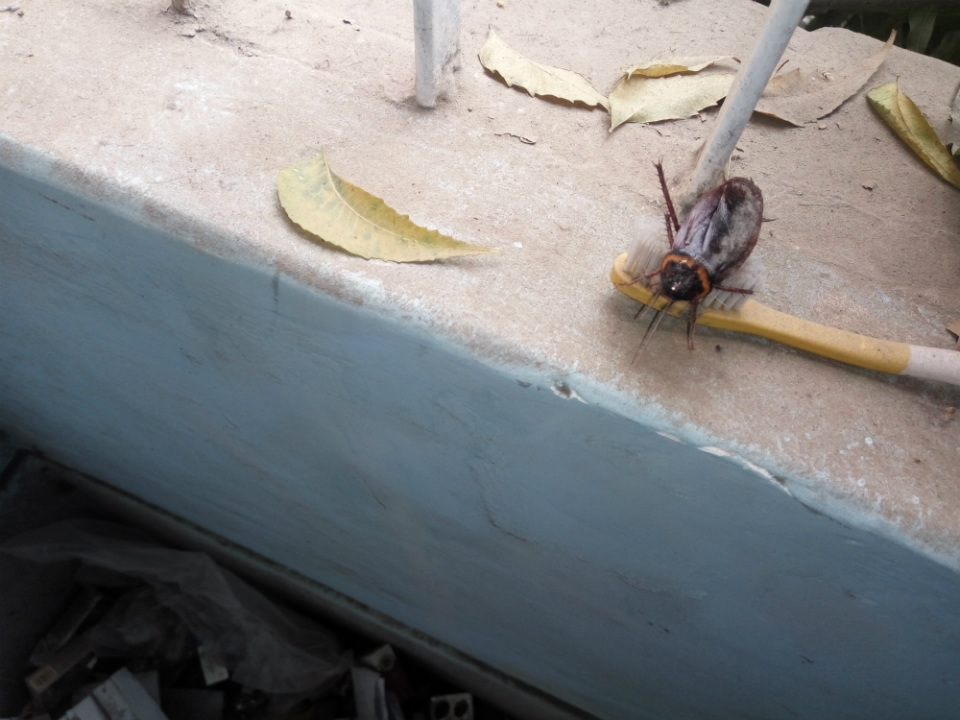cockroach: (640, 122, 780, 373)
